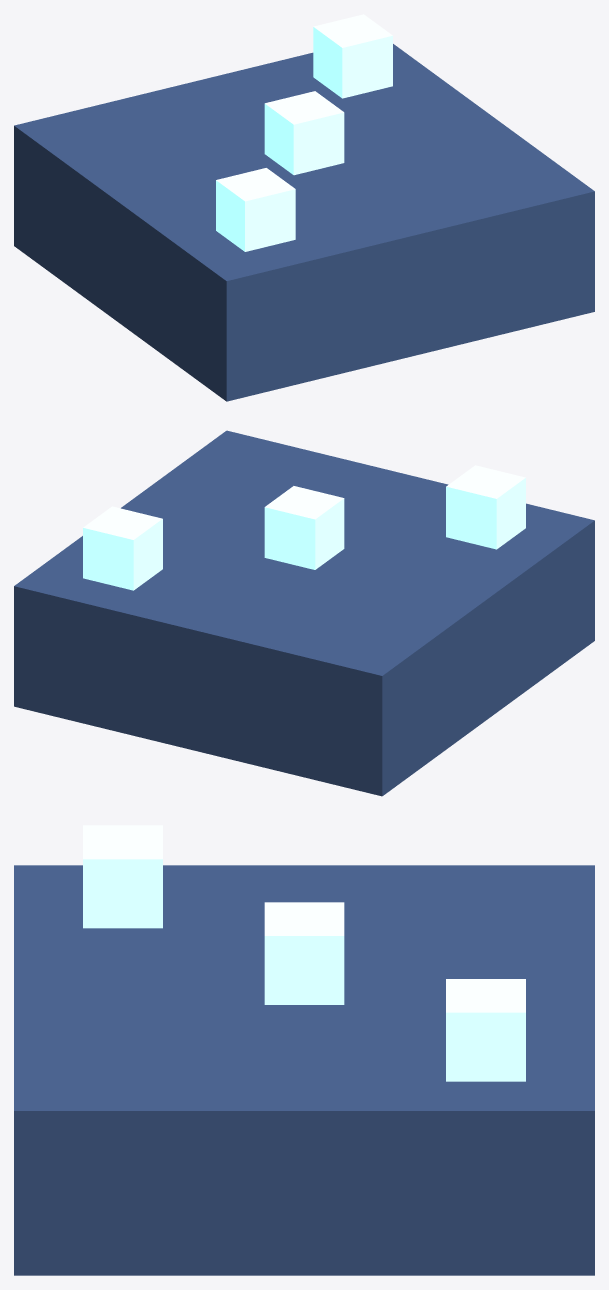
Rendered from static.glb.
The picture shows the model from 3 angles, top to bottom: view 1: azimuth 30°, elevation 25°; view 2: azimuth 150°, elevation 25°; view 3: azimuth 270°, elevation 25°; orthographic projection. The views are drawn at different scales.
Visible parts, largest first — view 1: Cube, Cube.002, Cube.003, Cube.001; view 2: Cube, Cube.002, Cube.003, Cube.001; view 3: Cube, Cube.002, Cube.001, Cube.003.
Part boxes in pixels (x1,y1,x2,y2): Cube: (14,44,594,401); Cube.002: (264,91,344,175); Cube.003: (313,14,392,98); Cube.001: (216,168,295,251); Cube: (14,430,594,796); Cube.002: (264,486,344,569); Cube.003: (83,506,162,590); Cube.001: (446,465,525,549); Cube: (14,865,594,1275); Cube.002: (264,902,344,1004); Cube.001: (83,825,162,928); Cube.003: (446,979,525,1081).
Bounding box in the file's own units: 1.6 × 0.71 × 1.6.
